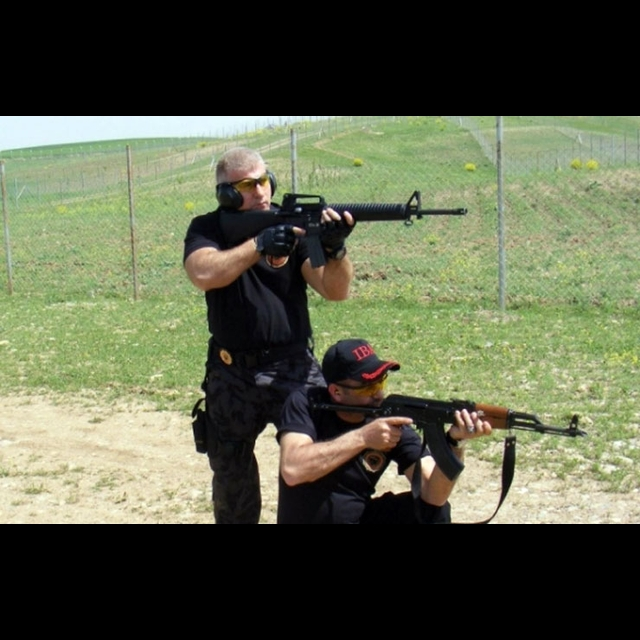AK47: (389, 395, 591, 479)
